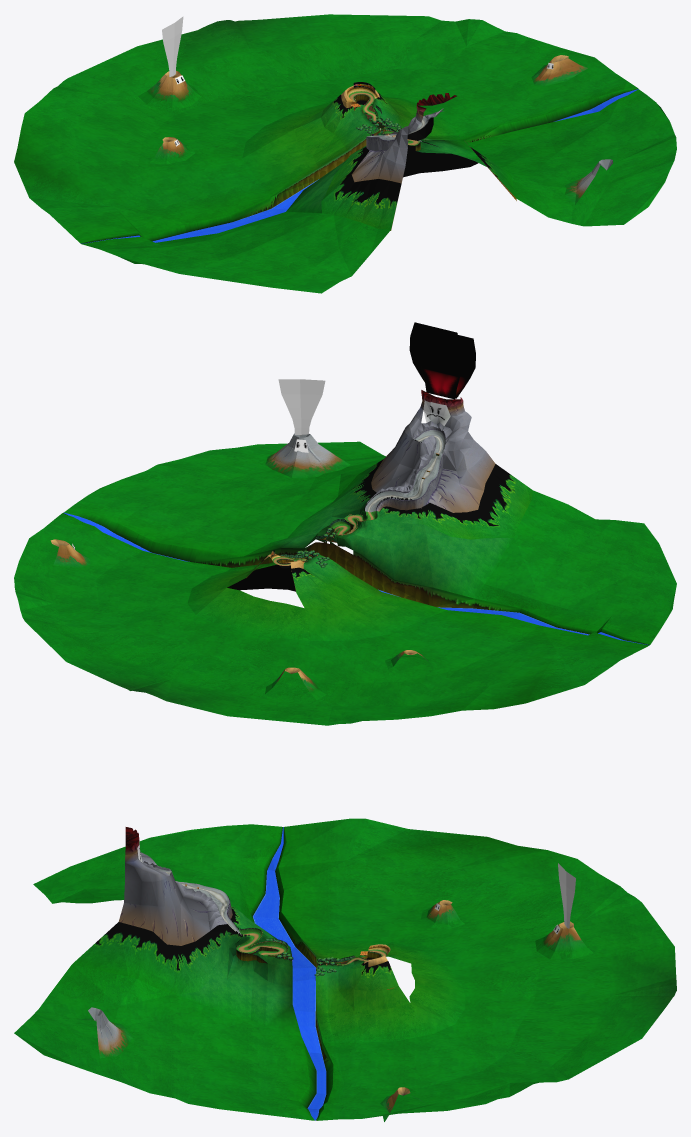
The model's file is course.glb.
3 renders of one model, top to bottom at view 1: azimuth 30°, elevation 25°; view 2: azimuth 150°, elevation 25°; view 3: azimuth 270°, elevation 25°, orthographic. The views are drawn at different scales.
Parts seen in each view (by area): view 1: polygon132, polygon69, polygon39, polygon150, polygon119, polygon125; view 2: polygon132, polygon69, polygon150, polygon39, polygon122, polygon125, polygon157, polygon119, polygon120, polygon123; view 3: polygon132, polygon39, polygon69, polygon150, polygon119, polygon157, polygon125.
Boxes of the visible parts, x1=… form: polygon132: x1=14, y1=14, x2=676, y2=293; polygon69: x1=138, y1=55, x2=612, y2=221; polygon39: x1=321, y1=92, x2=516, y2=229; polygon150: x1=351, y1=93, x2=516, y2=230; polygon119: x1=81, y1=89, x2=638, y2=243; polygon125: x1=162, y1=16, x2=183, y2=76; polygon132: x1=14, y1=441, x2=676, y2=725; polygon69: x1=50, y1=433, x2=520, y2=699; polygon150: x1=367, y1=390, x2=495, y2=512; polygon39: x1=246, y1=459, x2=532, y2=592; polygon122: x1=417, y1=326, x2=464, y2=399; polygon125: x1=278, y1=379, x2=325, y2=434; polygon157: x1=365, y1=429, x2=445, y2=512; polygon119: x1=63, y1=512, x2=649, y2=645; polygon120: x1=72, y1=400, x2=450, y2=564; polygon123: x1=430, y1=328, x2=475, y2=398; polygon132: x1=14, y1=818, x2=676, y2=1120; polygon39: x1=72, y1=906, x2=398, y2=994; polygon69: x1=77, y1=900, x2=593, y2=1121; polygon150: x1=118, y1=827, x2=234, y2=945; polygon119: x1=253, y1=827, x2=326, y2=1120; polygon157: x1=154, y1=866, x2=241, y2=935; polygon125: x1=558, y1=863, x2=575, y2=928.
Size of the model in its own units: 3193 by 1171 by 2995.
18 materials, 18 textured.
